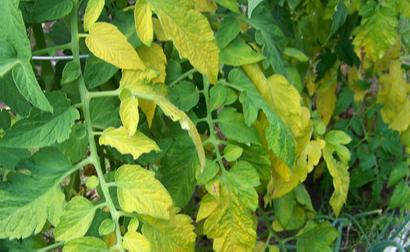Tomato leaf yellow virus: (241, 60, 309, 173), (139, 0, 219, 77), (194, 166, 263, 252), (112, 156, 178, 236), (0, 179, 62, 252), (85, 13, 145, 81)
